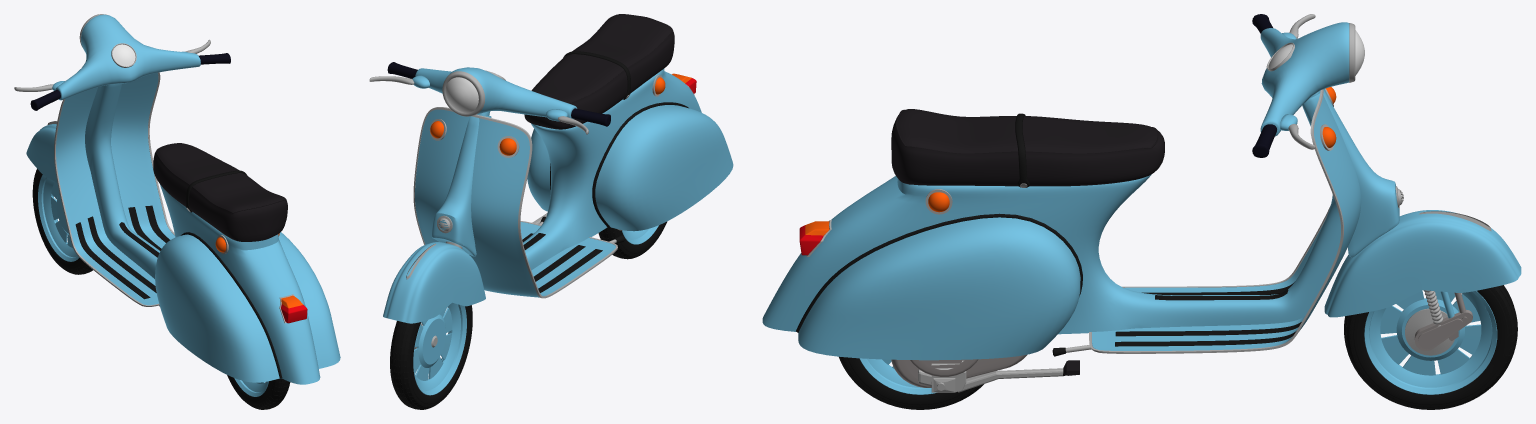
File: moto_vespa.glb
The picture shows the model from 3 angles, left to right: view 1: azimuth 30°, elevation 25°; view 2: azimuth 150°, elevation 25°; view 3: azimuth 270°, elevation 25°; orthographic projection. The views are drawn at different scales.
Size of the model in its own units: 0.7529 by 1.02 by 1.83.
